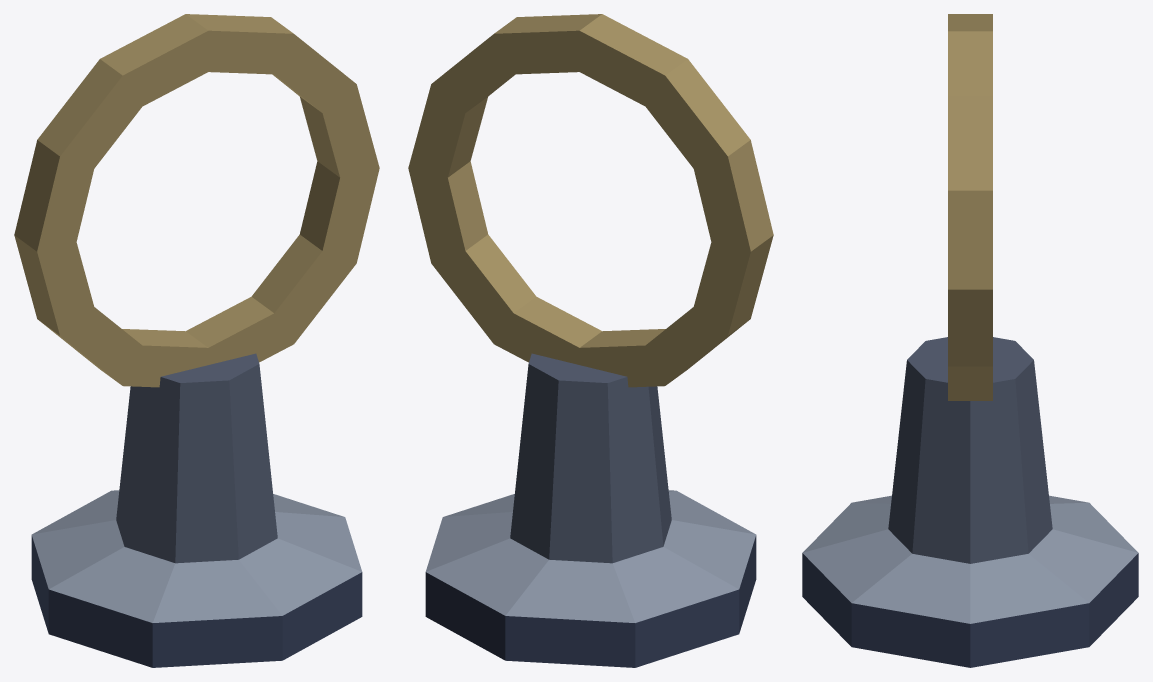
The model's file is lens-stand.glb.
3 renders of one model, left to right at view 1: azimuth 30°, elevation 25°; view 2: azimuth 150°, elevation 25°; view 3: azimuth 270°, elevation 25°, orthographic.
Parts seen in each view (by area): view 1: lens-stand__body; view 2: lens-stand__body; view 3: lens-stand__body.
Part boxes in pixels (x1,y1,x2,y2): lens-stand__body: (14,14,379,667); lens-stand__body: (408,14,773,667); lens-stand__body: (802,14,1138,667).
Size of the model in its own units: 1.04 by 1.67 by 0.9.
